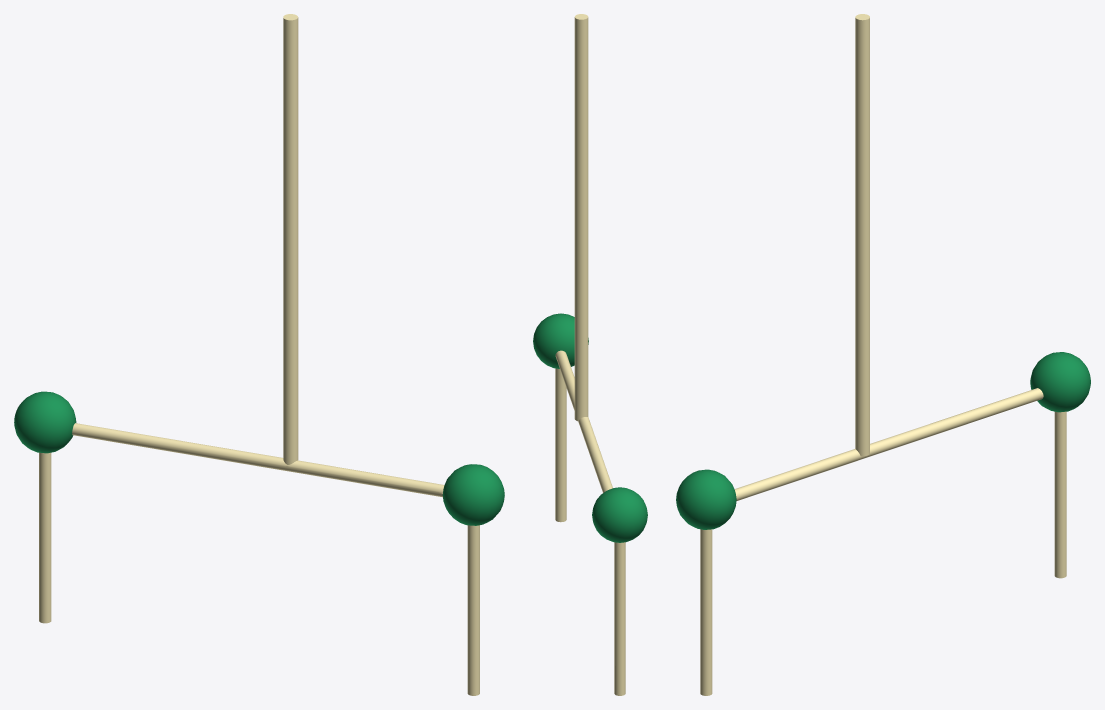
File: jugueteAnclaje.obj
3 views of the same model, side by side, from view 1: azimuth 30°, elevation 25°; view 2: azimuth 150°, elevation 25°; view 3: azimuth 270°, elevation 25° (orthographic). The views are drawn at different scales.
Parts seen in each view (by area): view 1: pasted__pasted__polySurface38 pasted__group6 group4; view 2: pasted__pasted__polySurface38 pasted__group6 group4; view 3: pasted__pasted__polySurface38 pasted__group6 group4.
Part boxes in pixels (bbox=[...]): pasted__pasted__polySurface38 pasted__group6 group4: bbox=[14, 14, 504, 695]; pasted__pasted__polySurface38 pasted__group6 group4: bbox=[533, 14, 647, 695]; pasted__pasted__polySurface38 pasted__group6 group4: bbox=[676, 14, 1090, 695].
Bounding box in the file's own units: 1.41 × 2.88 × 1.73.
